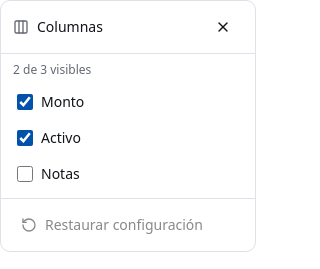
Test case: ColumnSettingsPanel › oculta una columna al desmarcarla
This screenshot has width=320, height=269.
Click the checkbox labelled "Monto".
click(25, 102)  # box [17, 94, 33, 110]
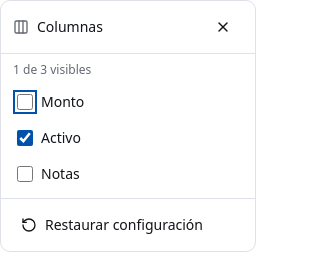
Expected: the checkbox labelled "Monto" is not checked, [17, 94, 33, 110]
Expected: the text "1 de 3 visibles" is shown, [13, 61, 91, 78]
